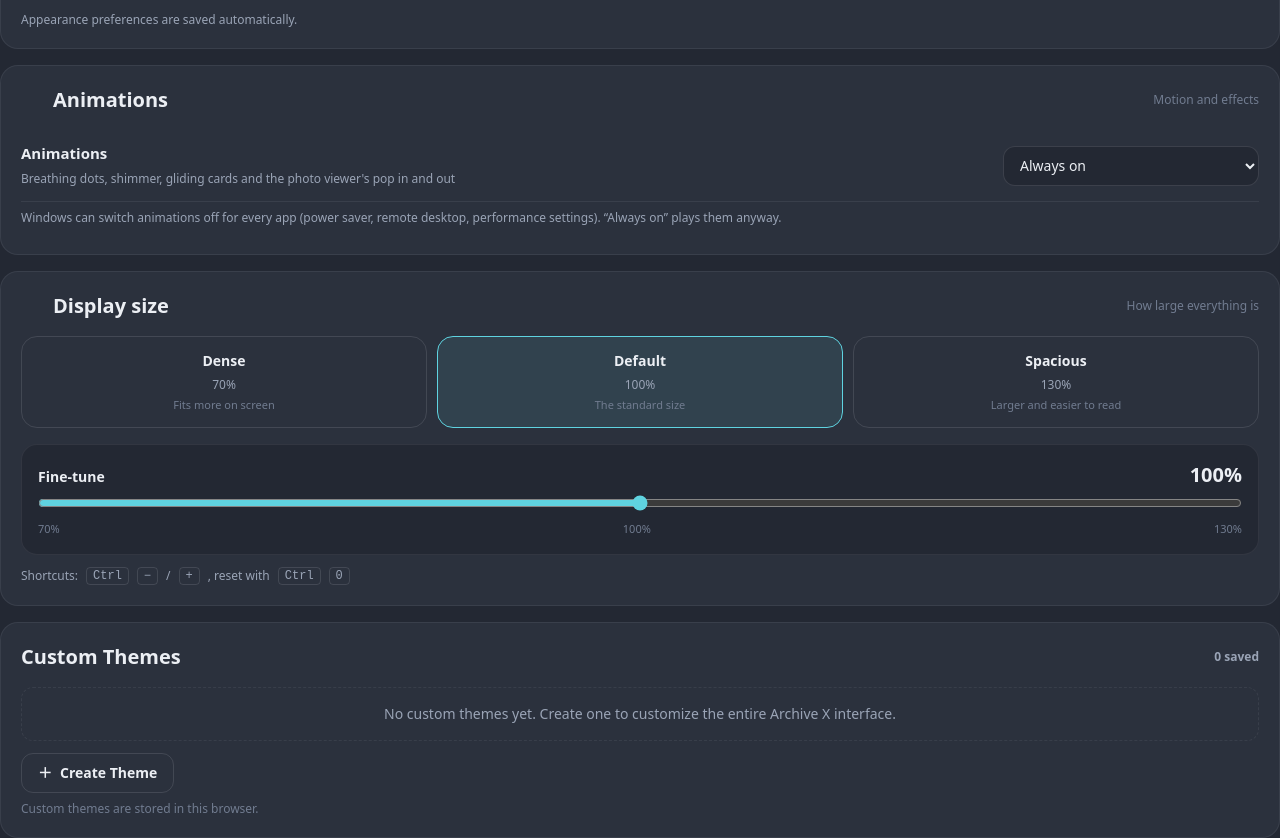
Scenario: Custom themes › flags an invalid colour and will not save until it is fixed
The width and height of the screenshot is (1280, 838).
(page scrolled)
Step 1. Click the button "＋ Create Theme" → [98, 773], box 21,753 -> 174,793
(page scrolled)
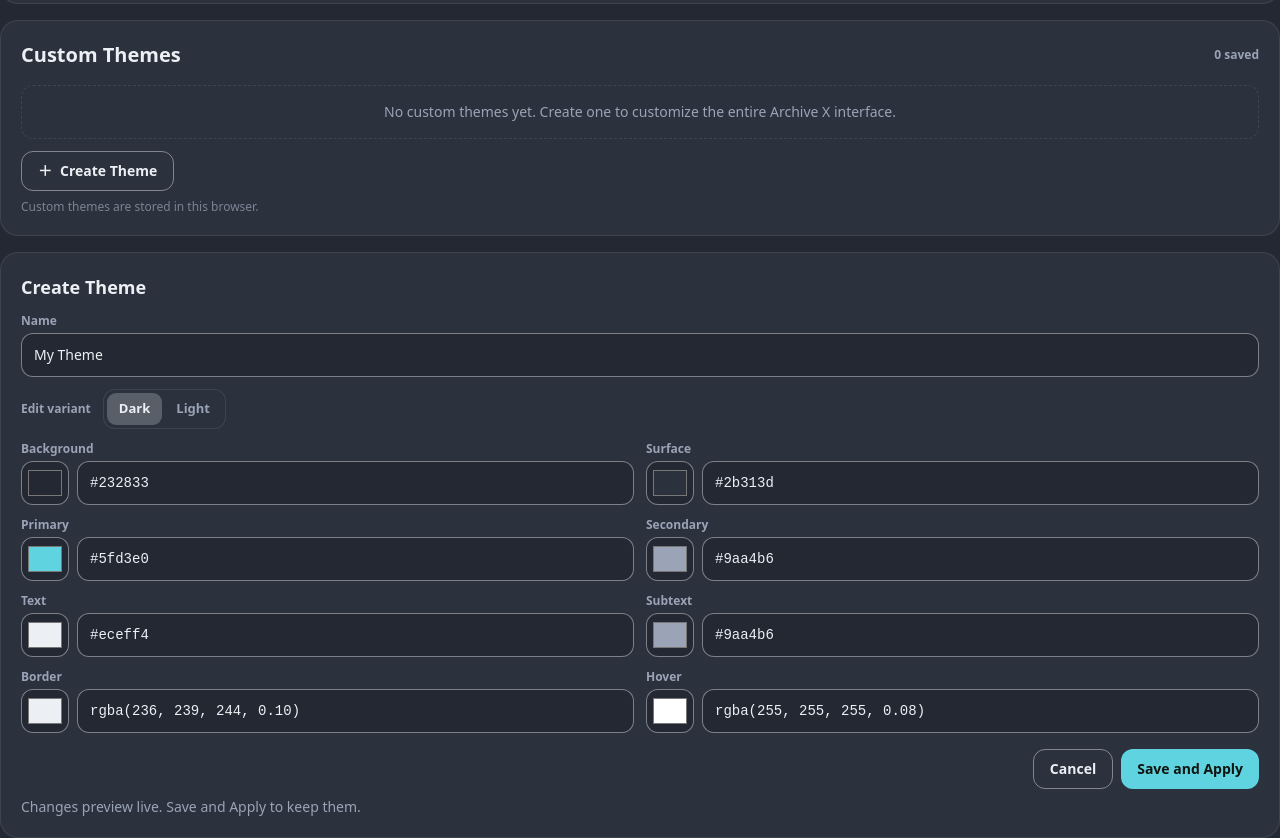
Step 2. Replace the text in the field named "Background color" with "not a colour" → [356, 483], box 77,461 -> 634,505
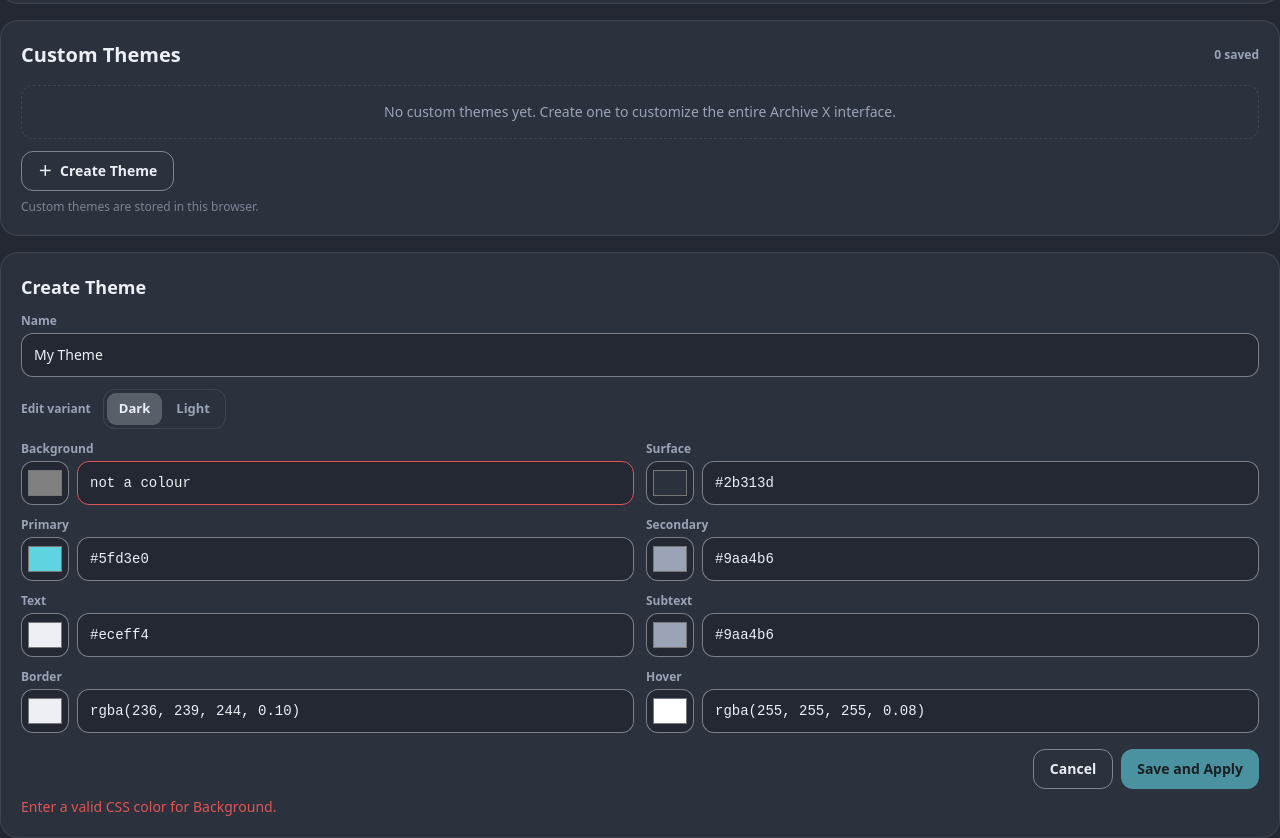
Expected: the text "Enter a valid CSS color for Background." is shown, 21,797 -> 276,816
Expected: the button "Save and Apply" is disabled, 1121,749 -> 1259,789
Step 3. Replace the text in the field named "Background color" with "#101010" → [356, 483], box 77,461 -> 634,505
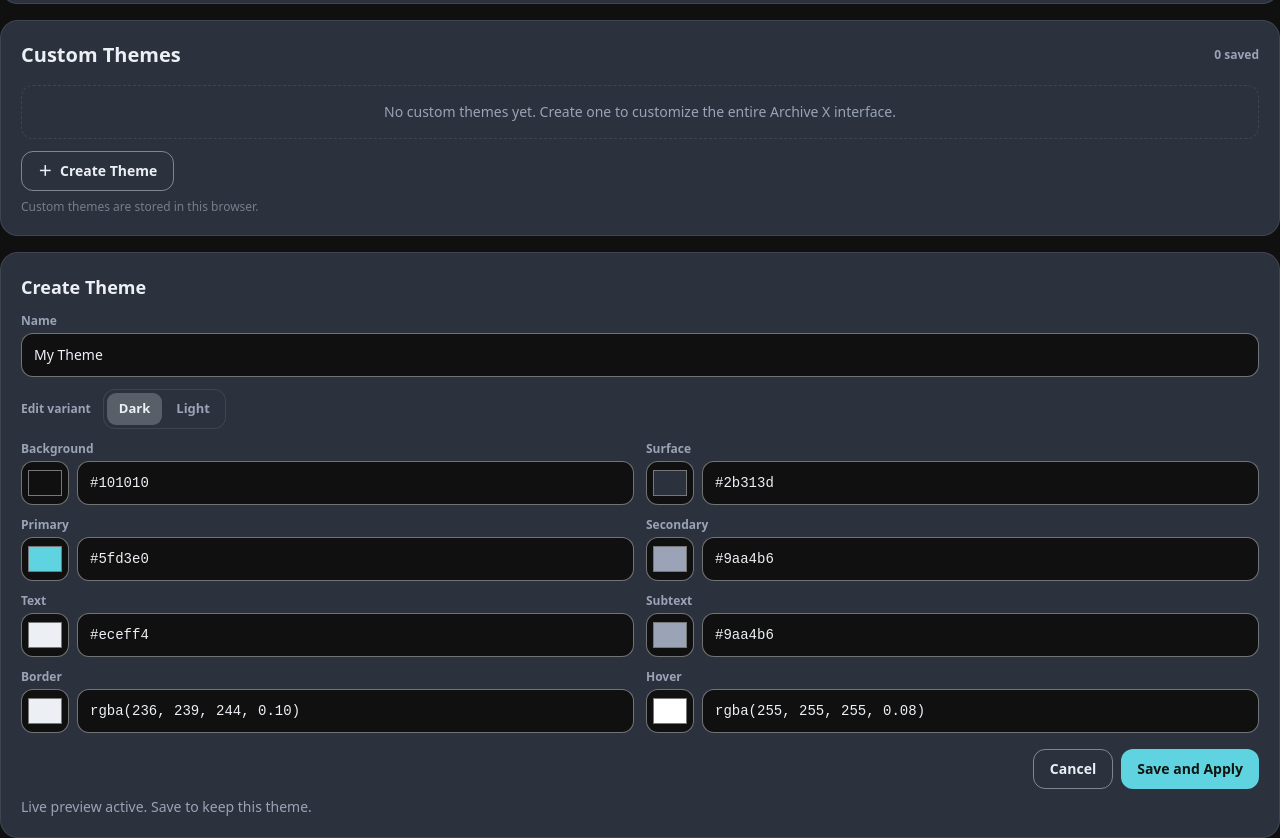
Expected: the button "Save and Apply" is enabled, 1121,749 -> 1259,789
